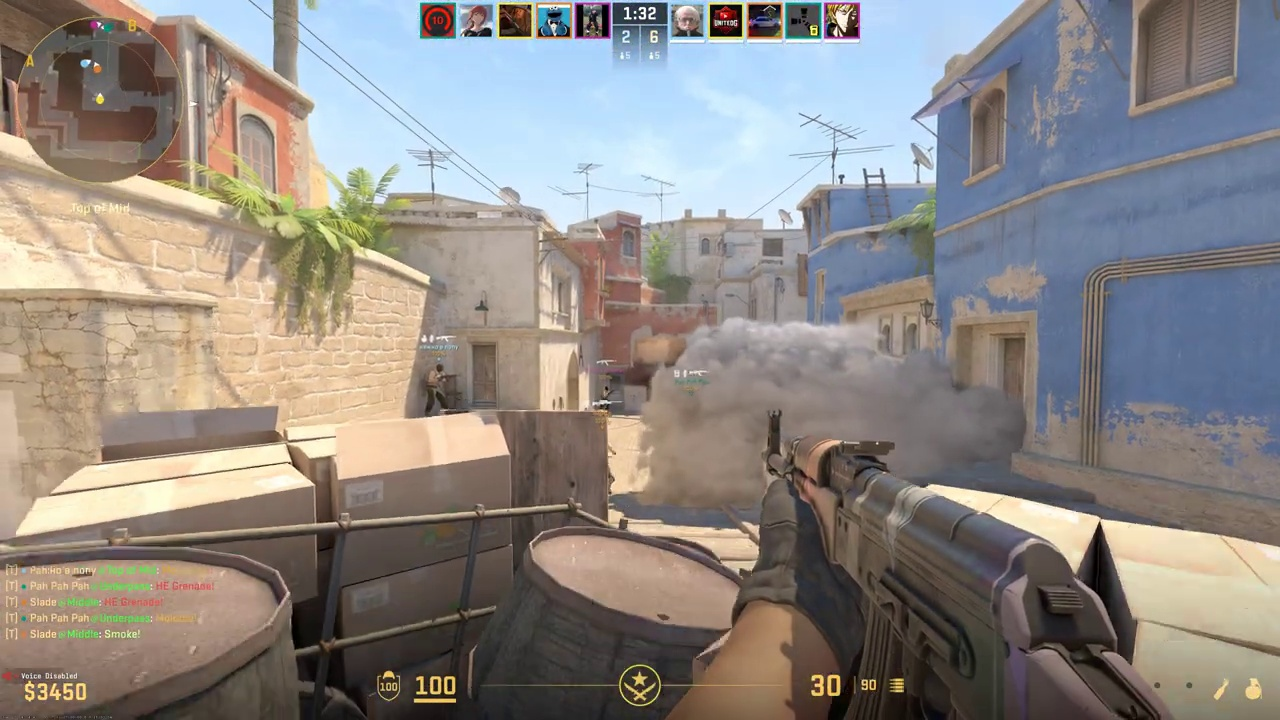Terrorist: (424, 364, 452, 414), (598, 386, 612, 409)
